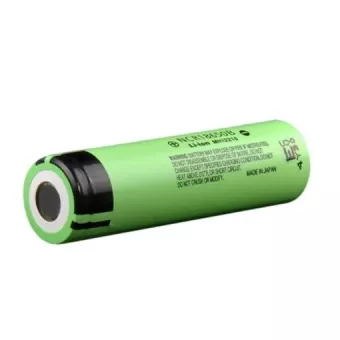Battery: (22, 117, 313, 246)
